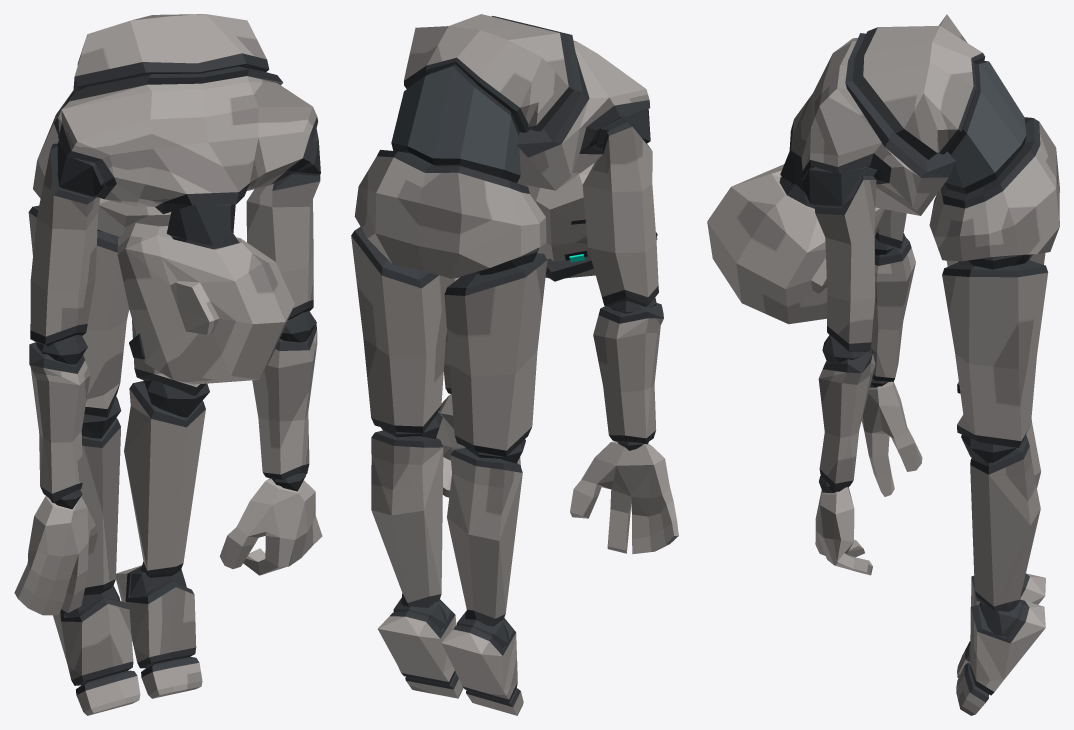
The model's file is SM_Prop_Robot_Posed_06.fbx.
3 views of the same model, side by side, from view 1: azimuth 30°, elevation 25°; view 2: azimuth 150°, elevation 25°; view 3: azimuth 270°, elevation 25° (orthographic). The views are drawn at different scales.
Visible parts, largest first — view 1: SM_Prop_Robot_Posed_06; view 2: SM_Prop_Robot_Posed_06; view 3: SM_Prop_Robot_Posed_06.
Boxes of the visible parts, left/top/right/bottom form: SM_Prop_Robot_Posed_06: left=14, top=14, right=322, bottom=715; SM_Prop_Robot_Posed_06: left=351, top=14, right=678, bottom=715; SM_Prop_Robot_Posed_06: left=707, top=14, right=1059, bottom=715.
Size of the model in its own units: 55.1 by 130 by 63.41.
